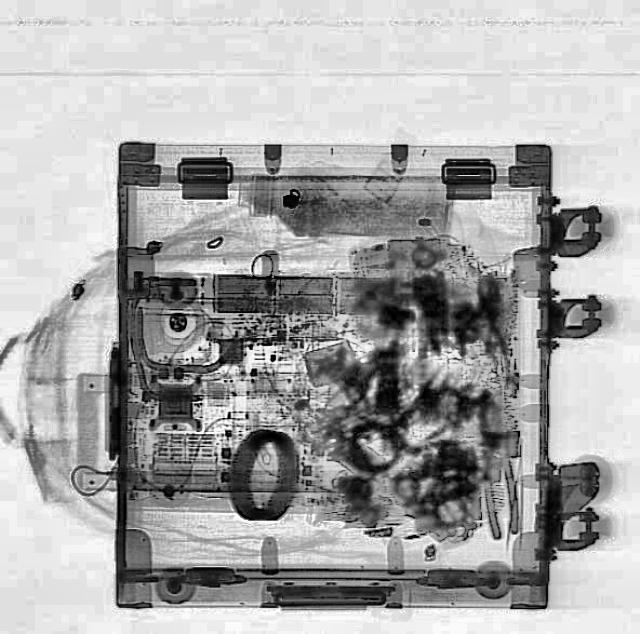Pliers: (471, 398, 524, 540)
